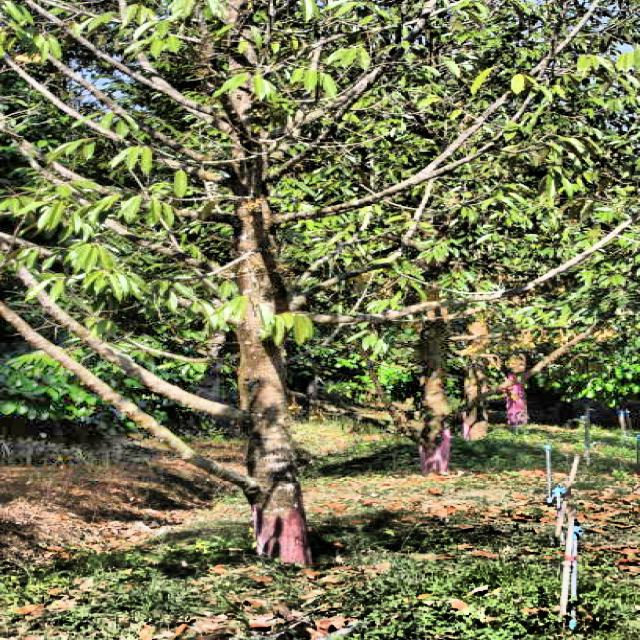arvore: (182, 0, 332, 589), (396, 245, 486, 506), (490, 262, 550, 438)
